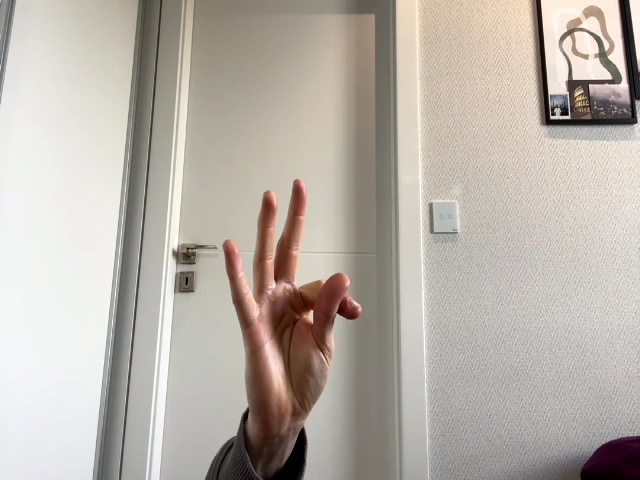T: (223, 179, 362, 416)
